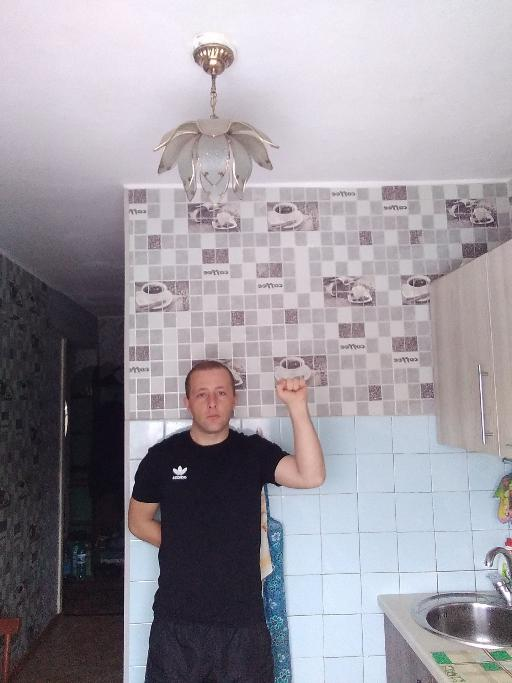fist: (274, 376, 308, 404)
